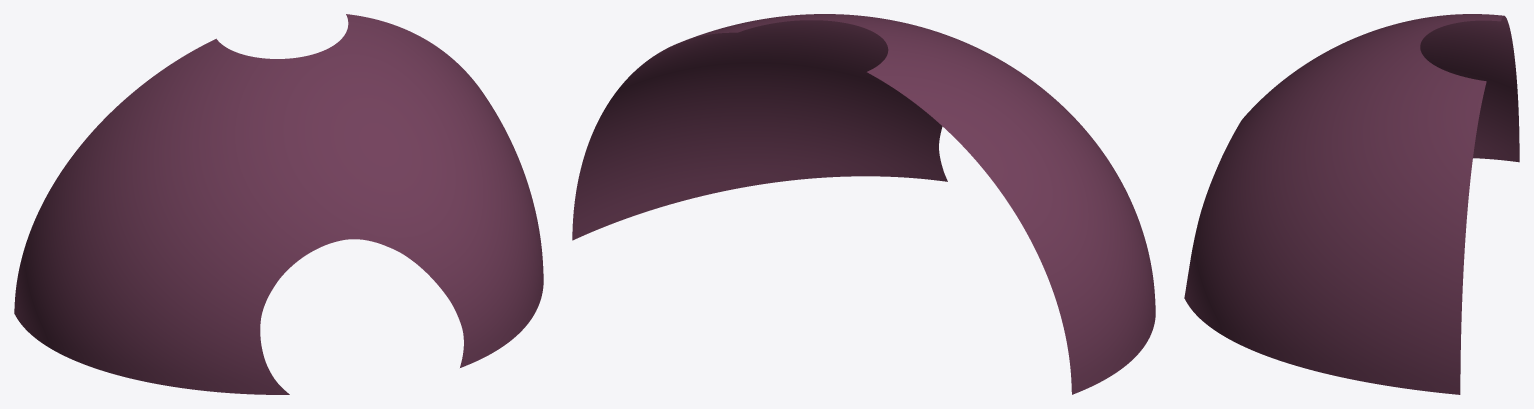
File: Wall_round.fbx
The picture shows the model from 3 angles, left to right: view 1: azimuth 30°, elevation 25°; view 2: azimuth 150°, elevation 25°; view 3: azimuth 270°, elevation 25°; orthographic projection. The views are drawn at different scales.
Parts seen in each view (by area): view 1: Wall_Circle; view 2: Wall_Circle; view 3: Wall_Circle.
Boxes of the visible parts, x1,y1,x2,y2 form: Wall_Circle: (14, 14, 543, 394); Wall_Circle: (572, 14, 1155, 394); Wall_Circle: (1184, 14, 1519, 394).
Size of the model in its own units: 492 by 227 by 294.
